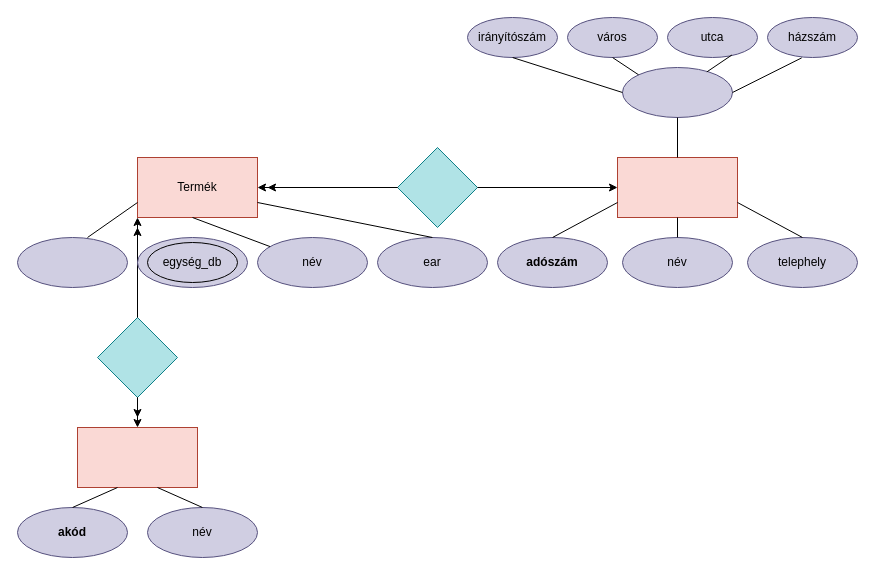
Some shapes in this 875 by 575 pixel diagram are drawn without their labels. The shapes that lost their labels are listed below. From the top down, each one's centre as x and y in pixels, then its label:
(x=677, y=92): postai cím
(x=437, y=187): T-GY
(x=677, y=187): Gyártó
(x=72, y=262): tkód
(x=137, y=357): T-A
(x=137, y=457): Alkatrész
